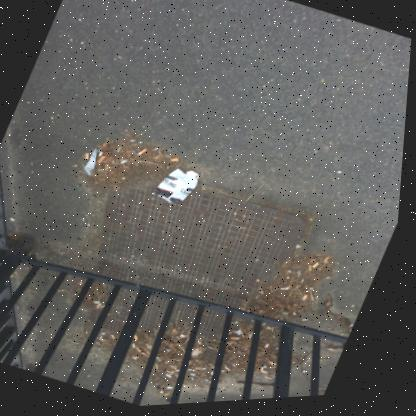Metal: (156, 169, 201, 205), (195, 174, 201, 180)
Waste: (85, 148, 99, 175), (139, 149, 149, 155), (315, 265, 322, 271), (306, 297, 312, 303), (122, 159, 129, 164), (172, 158, 180, 162), (87, 152, 91, 159), (141, 348, 146, 353), (230, 368, 236, 372), (171, 375, 177, 379), (172, 371, 179, 374), (270, 345, 274, 350), (333, 351, 339, 354), (236, 339, 244, 341), (312, 268, 315, 273), (139, 336, 142, 341), (137, 357, 142, 360), (101, 303, 106, 306), (270, 379, 277, 381), (266, 369, 269, 373), (306, 321, 312, 323), (116, 335, 119, 339), (104, 336, 107, 340), (137, 344, 140, 348), (188, 385, 193, 387), (173, 388, 178, 390), (165, 392, 170, 394), (132, 140, 137, 142), (297, 363, 300, 366), (274, 364, 278, 366), (272, 329, 276, 331), (170, 394, 176, 395), (200, 369, 205, 370), (106, 333, 110, 334)
